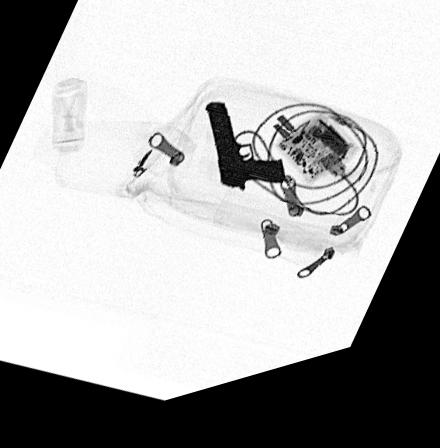Gun: (207, 112, 286, 206)
